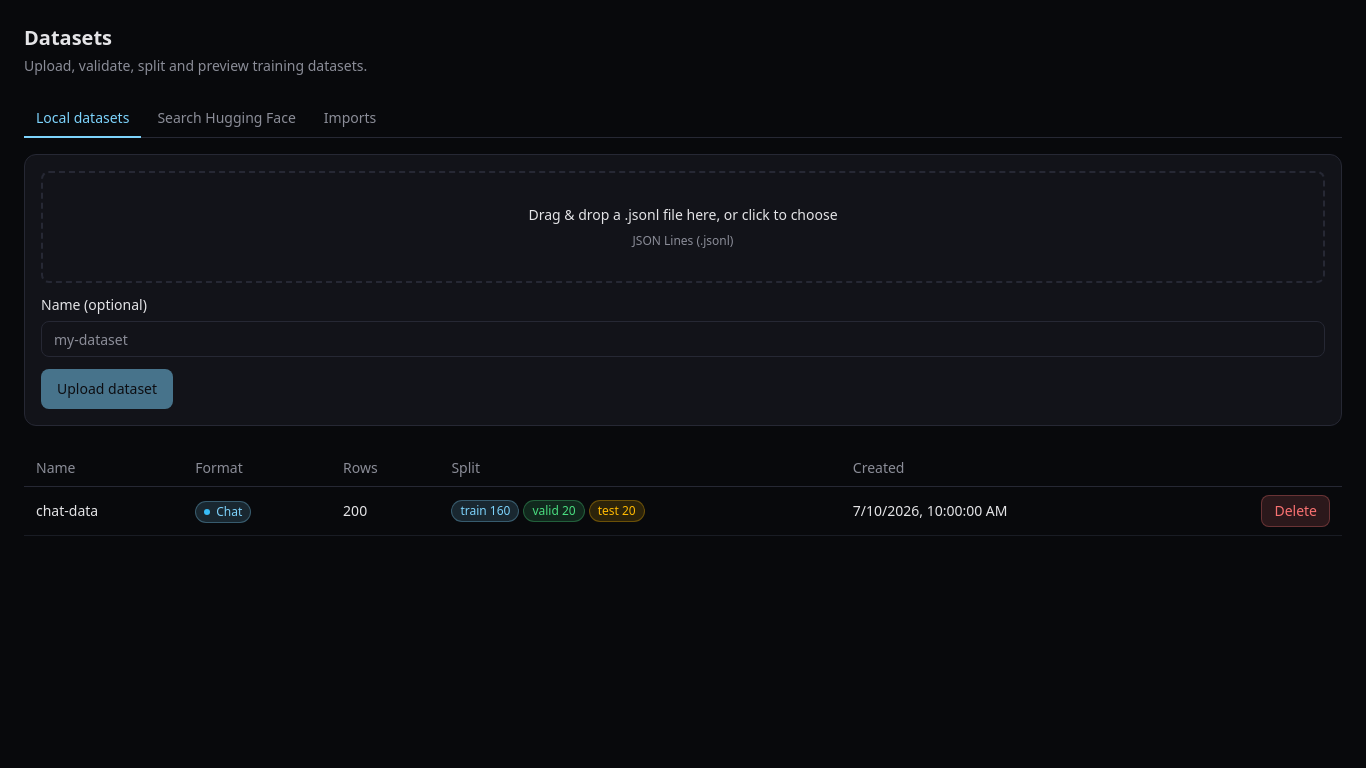
DatasetsPage › surfaces a training_active conflict toast when delete fails with 409
The width and height of the screenshot is (1366, 768).
Expected: the button "chat-data" is shown, x1=36 y1=501 x2=98 y2=521
Click the button "Delete": (1296, 511) x1=1261 y1=495 x2=1330 y2=527
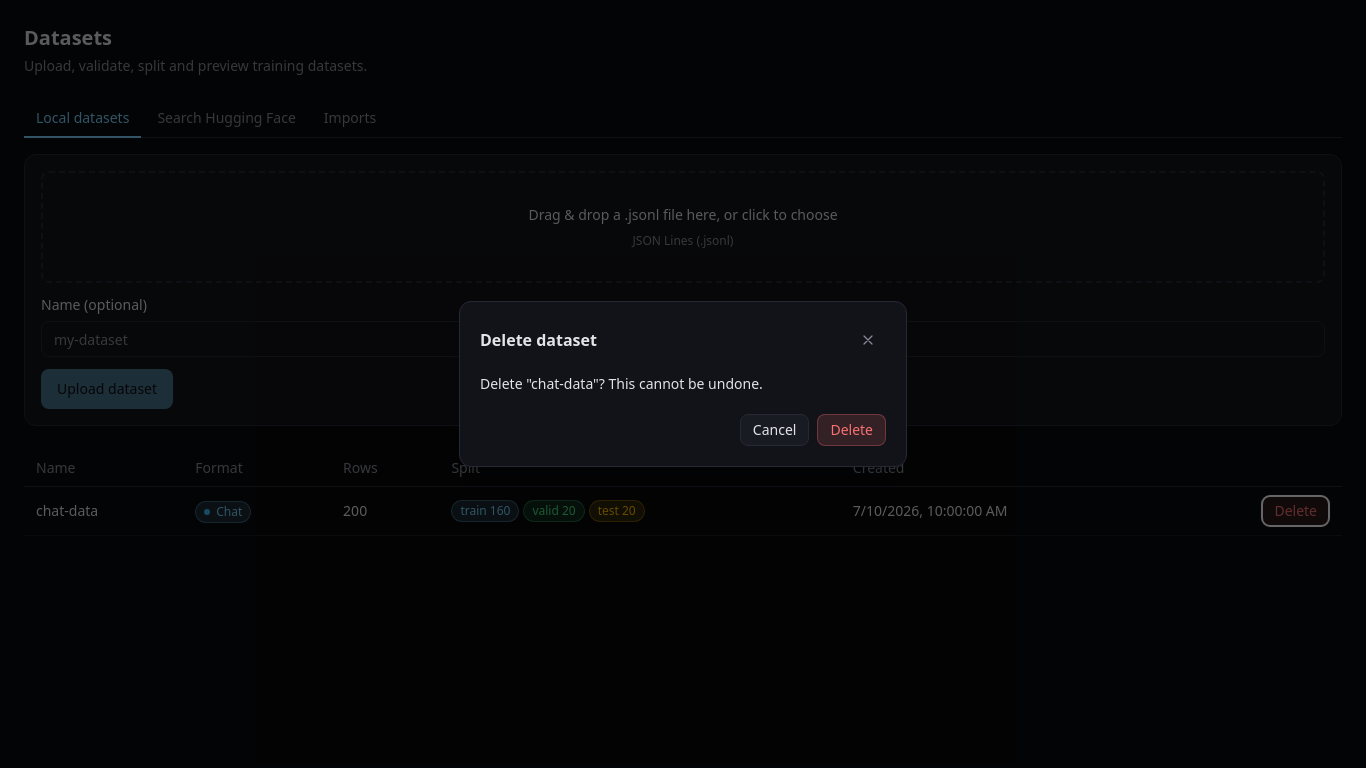
Click the button "Delete": (852, 430) x1=817 y1=414 x2=886 y2=446
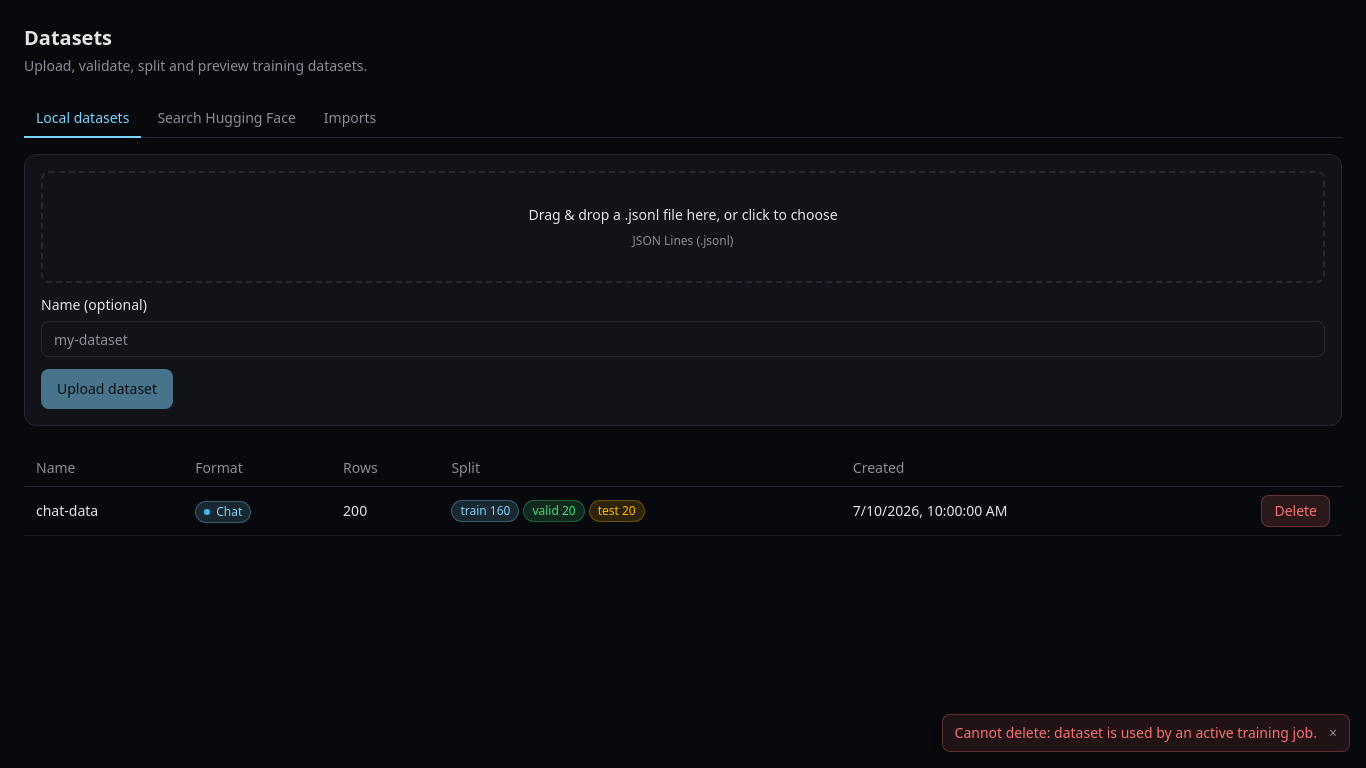
Expected: the button "chat-data" is shown, x1=36 y1=501 x2=98 y2=521
Now the text "Cannot delete: dataset is used by an active training job." is shown, box x1=954 y1=723 x2=1317 y2=743
